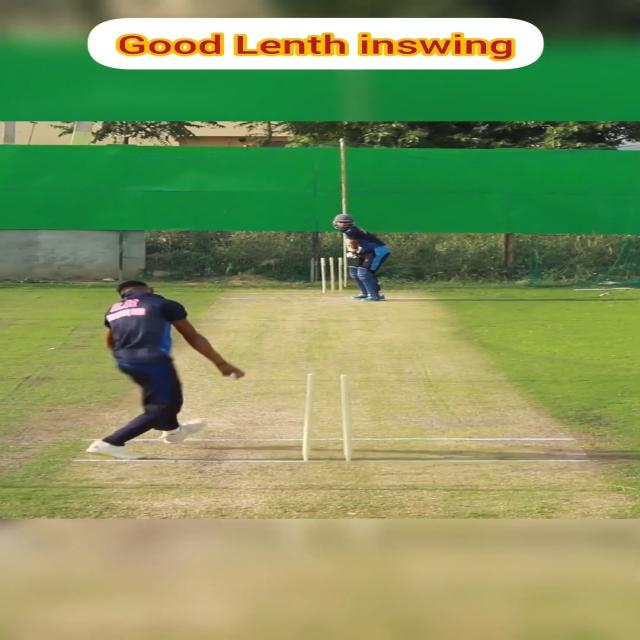stump: (301, 372, 354, 462), (318, 257, 344, 293)
